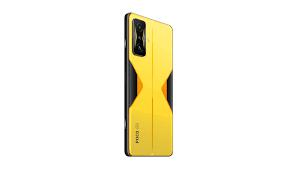Smartphone: (125, 17, 176, 163)
